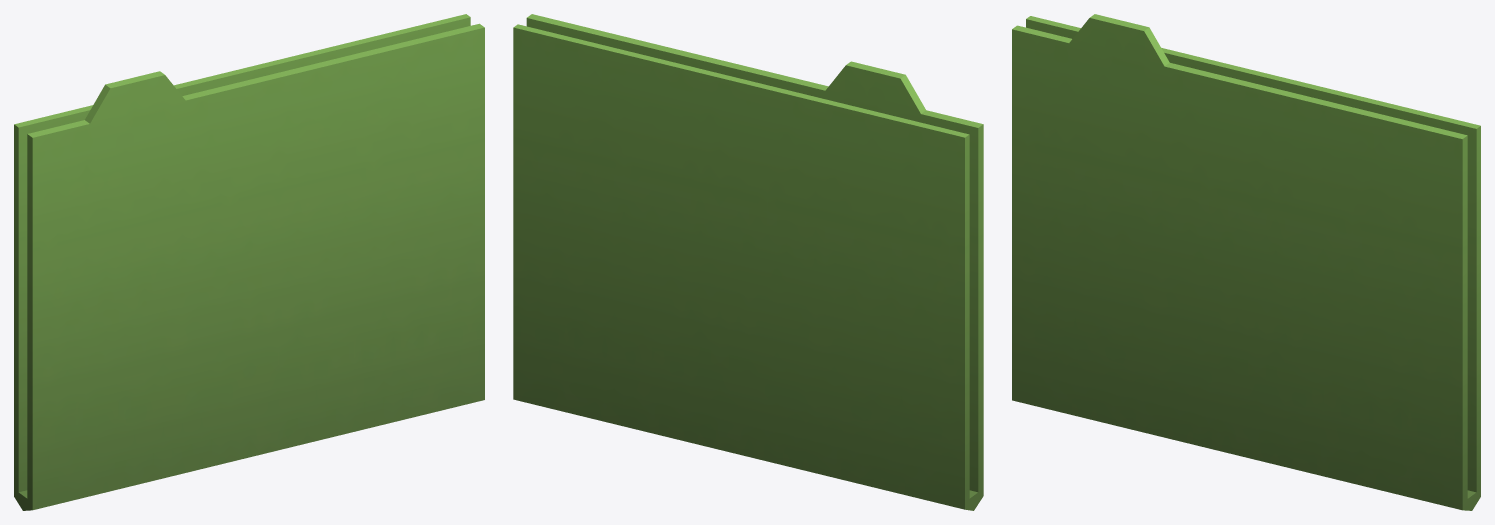
The model's file is Paper_FilingFolder_Green.fbx.
3 renders of one model, left to right at view 1: azimuth 30°, elevation 25°; view 2: azimuth 150°, elevation 25°; view 3: azimuth 330°, elevation 25°, orthographic.
Visible parts, largest first — view 1: Paper_FilingFolder_Green; view 2: Paper_FilingFolder_Green; view 3: Paper_FilingFolder_Green.
Part boxes in pixels (<box>): Paper_FilingFolder_Green: <box>14,14,484,510</box>; Paper_FilingFolder_Green: <box>513,14,983,510</box>; Paper_FilingFolder_Green: <box>1012,14,1480,510</box>.
Size of the model in its own units: 30.06 by 26.09 by 2.13.
